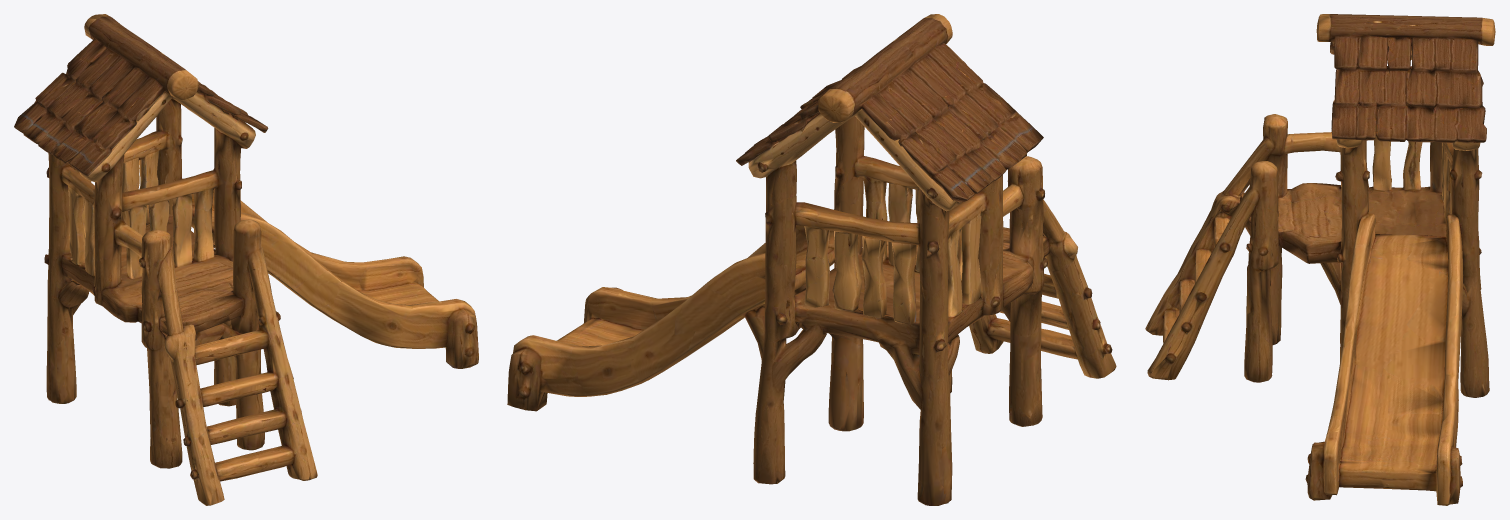
The model's file is kaydirak.glb.
The picture shows the model from 3 angles, left to right: view 1: azimuth 30°, elevation 25°; view 2: azimuth 150°, elevation 25°; view 3: azimuth 270°, elevation 25°; orthographic projection. The views are drawn at different scales.
Bounding box in the file's own units: 1.9 × 1.63 × 1.48.
Materials: 1 (1 with a texture image).
